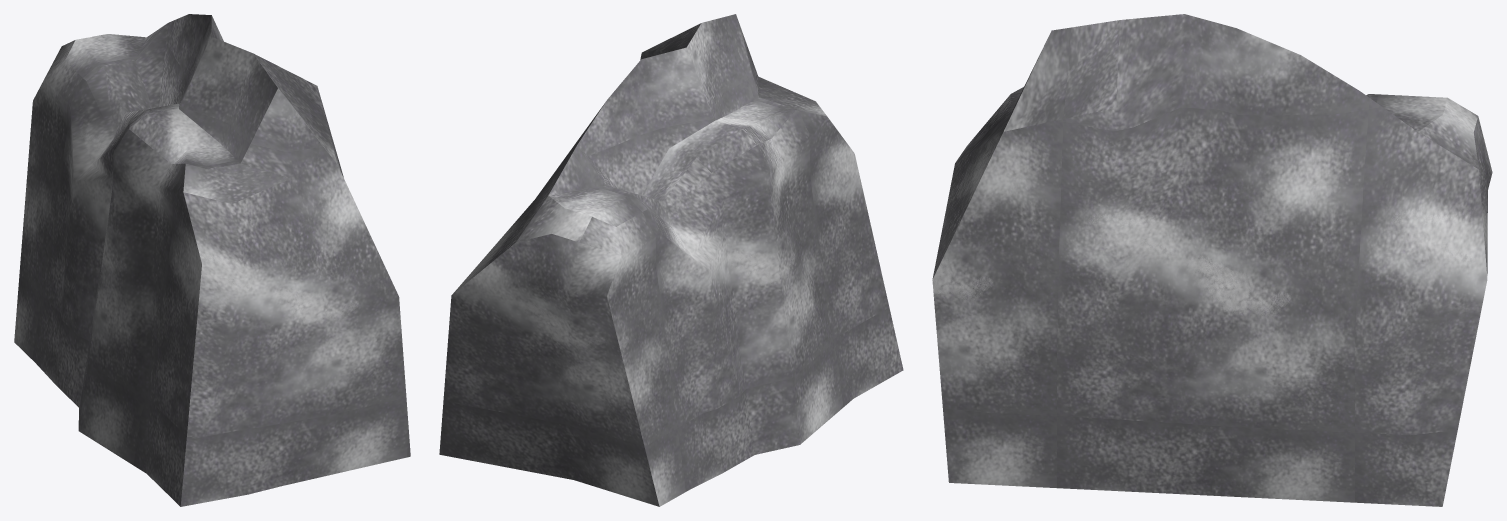
Rendered from MountainL1.FBX.
3 views of the same model, side by side, from view 1: azimuth 30°, elevation 25°; view 2: azimuth 150°, elevation 25°; view 3: azimuth 270°, elevation 25° (orthographic). The views are drawn at different scales.
Parts seen in each view (by area): view 1: MountainL1; view 2: MountainL1; view 3: MountainL1.
Part boxes in pixels (x1,y1,x2,y2): MountainL1: [14, 14, 410, 506]; MountainL1: [439, 14, 903, 506]; MountainL1: [932, 14, 1492, 506].
Bounding box in the file's own units: 116 × 155 × 187.
Materials: 1 (1 with a texture image).
